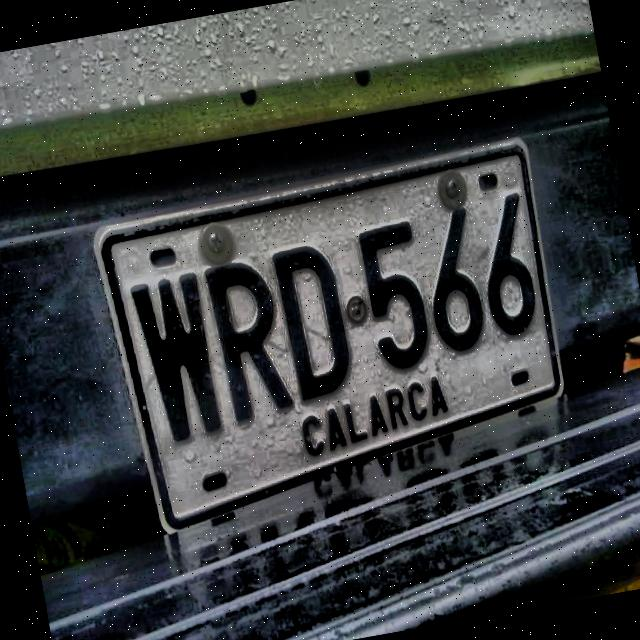5: (350, 211, 435, 378)
6: (417, 205, 492, 362), (478, 190, 543, 344)
D: (264, 233, 359, 406)
R: (199, 256, 299, 429)
W: (120, 268, 232, 450)
